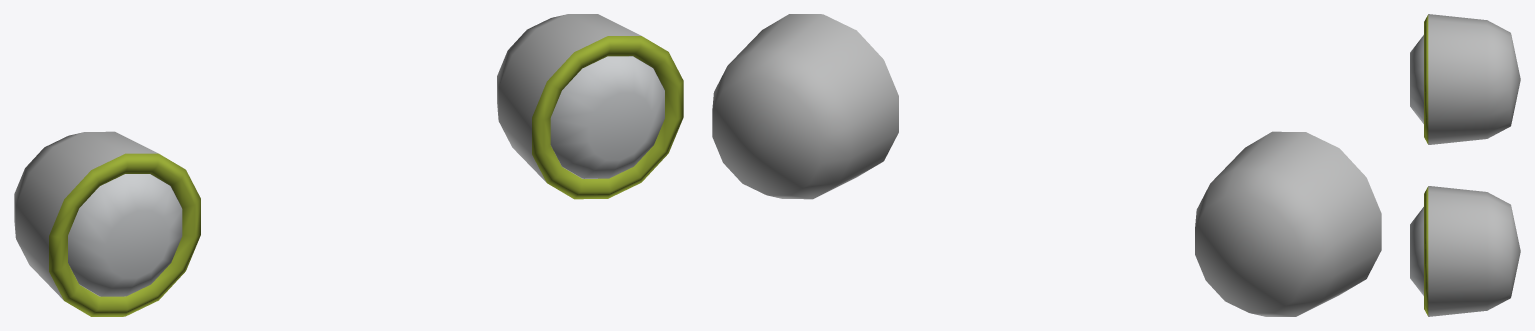
File: Car_15_Headlight_Simple.fbx
3 renders of one model, left to right at view 1: azimuth 30°, elevation 25°; view 2: azimuth 150°, elevation 25°; view 3: azimuth 270°, elevation 25°, orthographic. The views are drawn at different scales.
Visible parts, largest first — view 1: Car_15_Headlight_Simple; view 2: Car_15_Headlight_Simple; view 3: Car_15_Headlight_Simple.
Part boxes in pixels (box(x1,y1,x2,y2)): Car_15_Headlight_Simple: box(14, 14, 683, 316); Car_15_Headlight_Simple: box(712, 14, 1381, 316); Car_15_Headlight_Simple: box(1410, 14, 1520, 316).
Size of the model in its own units: 111 by 22.88 by 27.12.
